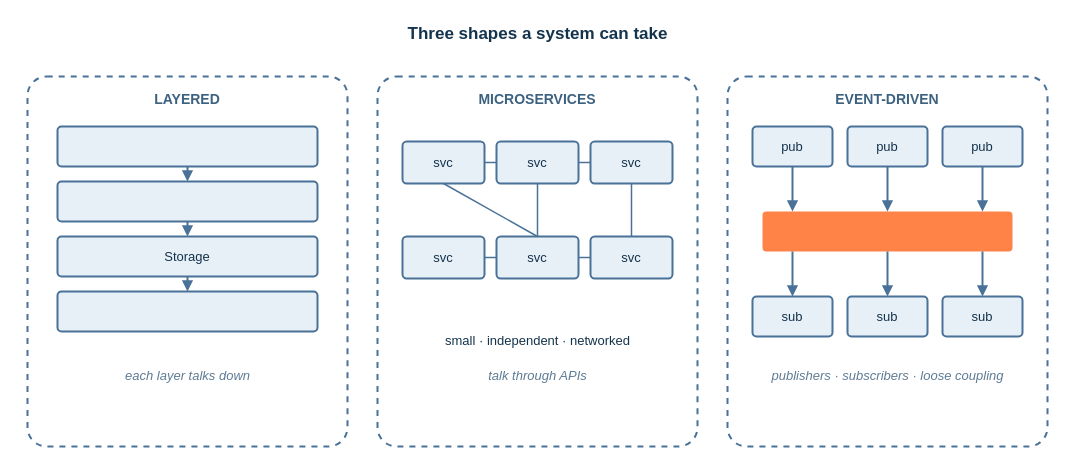
Image size: 1074x464. Some labels were removed from this diagram. Each missing label, with the centre of its shape:
"Agents · logic" belongs at point (187, 201).
"Event bus" belongs at point (887, 231).
"Sensors · actuators" belongs at point (187, 311).
"UI · dashboard" belongs at point (187, 146).
